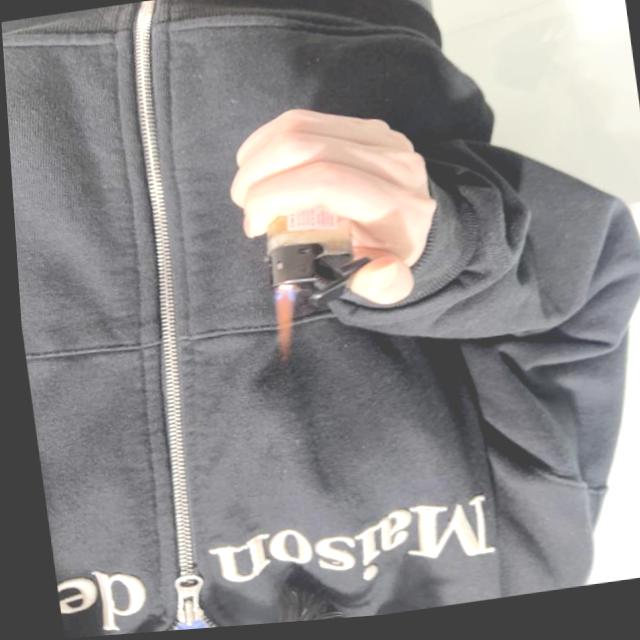Fire: (262, 289, 307, 360)
